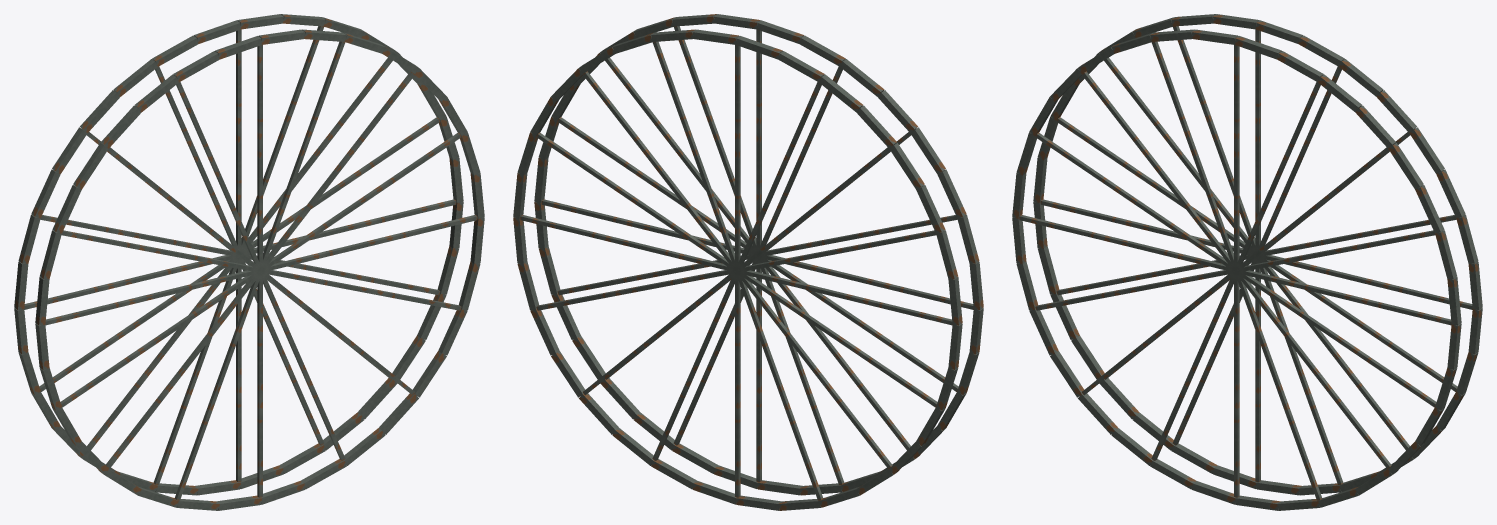
Rendered from ferris_wheel.obj.
The picture shows the model from 3 angles, left to right: view 1: azimuth 30°, elevation 25°; view 2: azimuth 150°, elevation 25°; view 3: azimuth 330°, elevation 25°; orthographic projection.
Parts seen in each view (by area): view 1: Spokes_Steel, Rim_Steel; view 2: Spokes_Steel, Rim_Steel; view 3: Spokes_Steel, Rim_Steel.
Part boxes in pixels (<box>): Spokes_Steel: <box>24,26,477,500</box>; Rim_Steel: <box>14,14,484,510</box>; Spokes_Steel: <box>520,26,973,500</box>; Rim_Steel: <box>513,14,983,510</box>; Spokes_Steel: <box>1019,26,1472,500</box>; Rim_Steel: <box>1012,14,1482,510</box>.
Size of the model in its own units: 24.35 by 24.35 by 2.35.
1 material, 1 textured.
